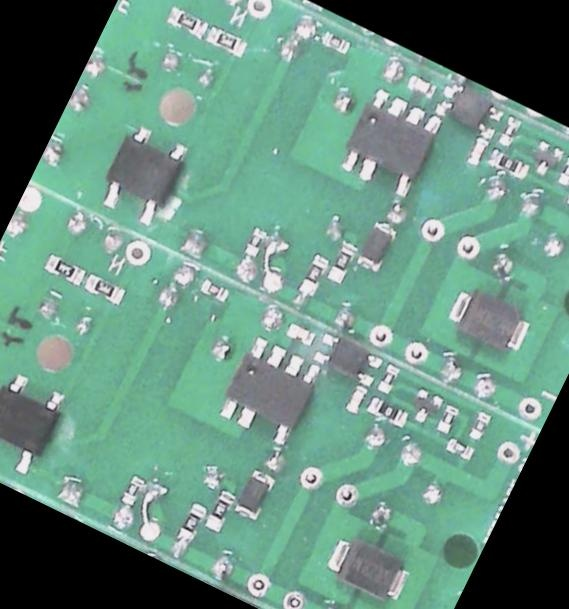chip-capacitor: (281, 317, 317, 348), (462, 132, 491, 168), (403, 70, 437, 99), (341, 381, 369, 416)
chip-resistor: (162, 0, 212, 40), (321, 235, 359, 286), (78, 268, 127, 307), (201, 484, 239, 534), (202, 20, 250, 58), (295, 249, 332, 297), (484, 144, 532, 181), (40, 249, 86, 287), (364, 392, 411, 429), (173, 499, 209, 546), (117, 469, 147, 507), (195, 273, 231, 304), (316, 26, 353, 56), (441, 432, 476, 462), (432, 400, 461, 436), (463, 406, 492, 442), (240, 222, 269, 257), (374, 360, 402, 394), (495, 113, 522, 147), (552, 150, 569, 187), (562, 185, 569, 213)
diode: (438, 277, 537, 361), (319, 526, 417, 607), (227, 462, 279, 524), (351, 215, 400, 277)
ic: (209, 330, 327, 451), (333, 81, 447, 200), (91, 116, 191, 228), (0, 363, 71, 479), (430, 77, 508, 141), (308, 326, 385, 388)
transistor: (402, 382, 446, 428), (525, 136, 566, 180)
